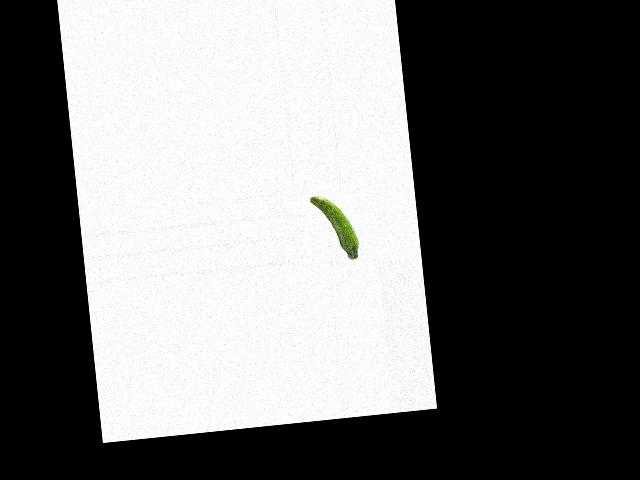cucumber: (308, 192, 360, 264)
